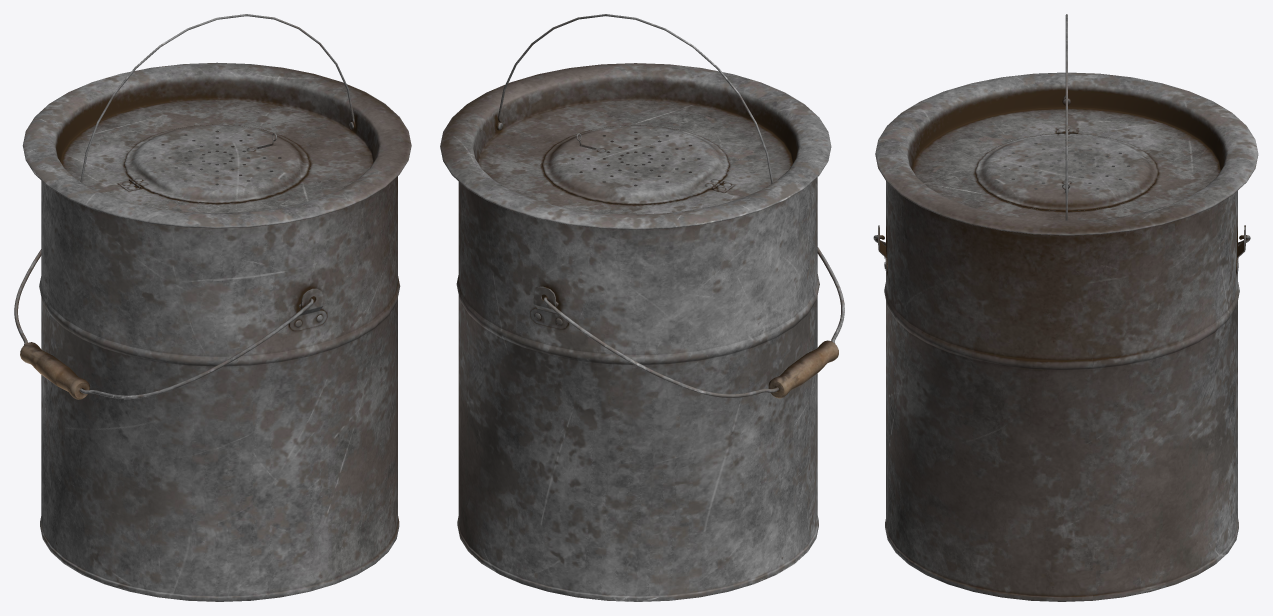
The model's file is Bait Bucket.fbx.
3 renders of one model, left to right at view 1: azimuth 30°, elevation 25°; view 2: azimuth 150°, elevation 25°; view 3: azimuth 270°, elevation 25°, orthographic. The views are drawn at different scales.
Visible parts, largest first — view 1: Cylinder009; view 2: Cylinder009; view 3: Cylinder009.
Part boxes in pixels (left/top/right/bottom): Cylinder009: left=14, top=14, right=411, bottom=601; Cylinder009: left=440, top=14, right=844, bottom=601; Cylinder009: left=873, top=14, right=1258, bottom=601.
Size of the model in its own units: 9.14 by 12.91 by 9.02.
1 material, 1 textured.
